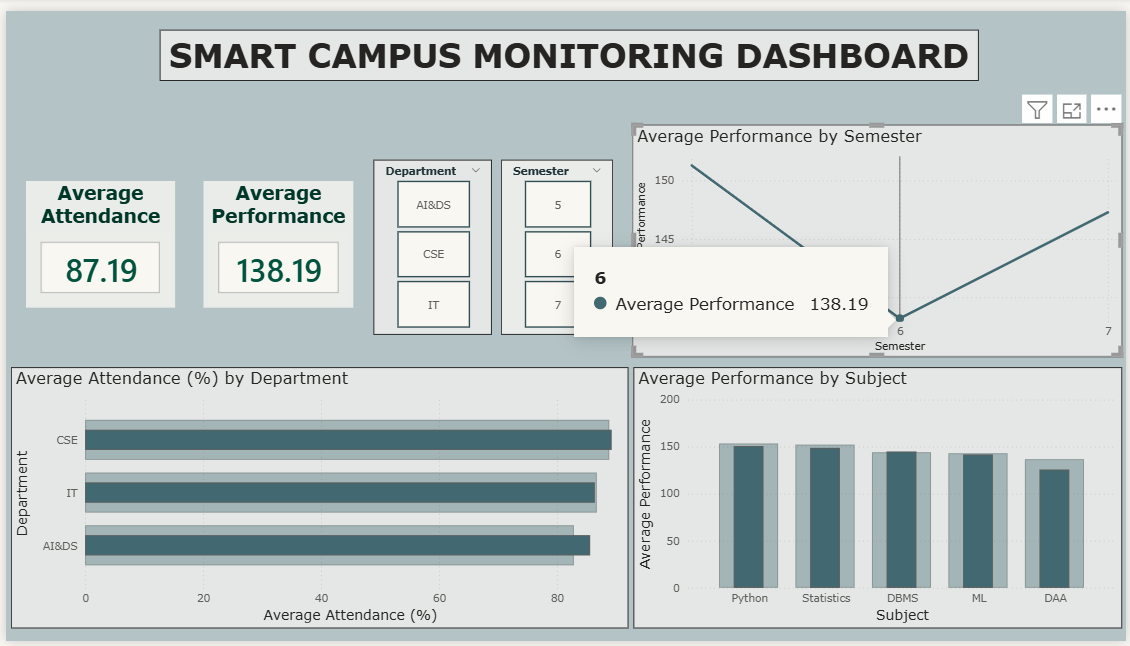

The page's visual inventory and layout, read from the dashboard file:
{"tool":"powerbi","page":{"name":"Page 1","canvas":[1280,720],"ordinal":0},"visuals":[{"type":"cardVisual","title":"Average Attendance","fields":{"Data":["5 student_performance.Average Attendance (%)"]},"box":[23.2,194.3,170,145],"z":0},{"type":"clusteredBarChart","fields":{"Category":["5 student_performance.Department","5 student_performance.Subject","5 student_performance.Student_ID"],"Y":["5 student_performance.Average Attendance (%)"]},"box":[5.7,407.1,705.7,298.6],"z":1000},{"type":"clusteredColumnChart","fields":{"Category":["5 student_performance.Subject"],"Y":["5 student_performance.Average Performance"]},"box":[717.1,407.1,558.6,298.6],"z":2000},{"type":"lineChart","fields":{"Category":["5 student_performance.Semester"],"Y":["5 student_performance.Average Performance"]},"box":[715.7,130.6,560,265.7],"z":3000},{"type":"slicer","fields":{"Values":["5 student_performance.Department"]},"box":[420,169.4,135,200],"z":4000},{"type":"textbox","box":[175.7,21.4,935.7,58.6],"z":5000},{"type":"cardVisual","title":"Average Performance","fields":{"Data":["5 student_performance.Average Performance"]},"box":[225.7,194.3,171.2,145],"z":6000},{"type":"slicer","fields":{"Values":["5 student_performance.Semester"]},"box":[565.7,169.6,127.8,200],"z":7000}]}

Visuals, with their boxes in screenshot pixels (x1, y1, x2, y2), scaled from the page's 1280x720 canvas onto the 1130x646 screenshot:
"Average Attendance" cardVisual: (20, 174, 171, 304)
clusteredBarChart - 5 student_performance.Department x 5 student_performance.Subject: (5, 365, 628, 633)
clusteredColumnChart - 5 student_performance.Subject x 5 student_performance.Average Performance: (633, 365, 1126, 633)
lineChart - 5 student_performance.Semester x 5 student_performance.Average Performance: (632, 117, 1126, 356)
slicer - 5 student_performance.Department: (371, 152, 490, 331)
textbox: (155, 19, 981, 72)
"Average Performance" cardVisual: (199, 174, 350, 304)
slicer - 5 student_performance.Semester: (499, 152, 612, 332)
